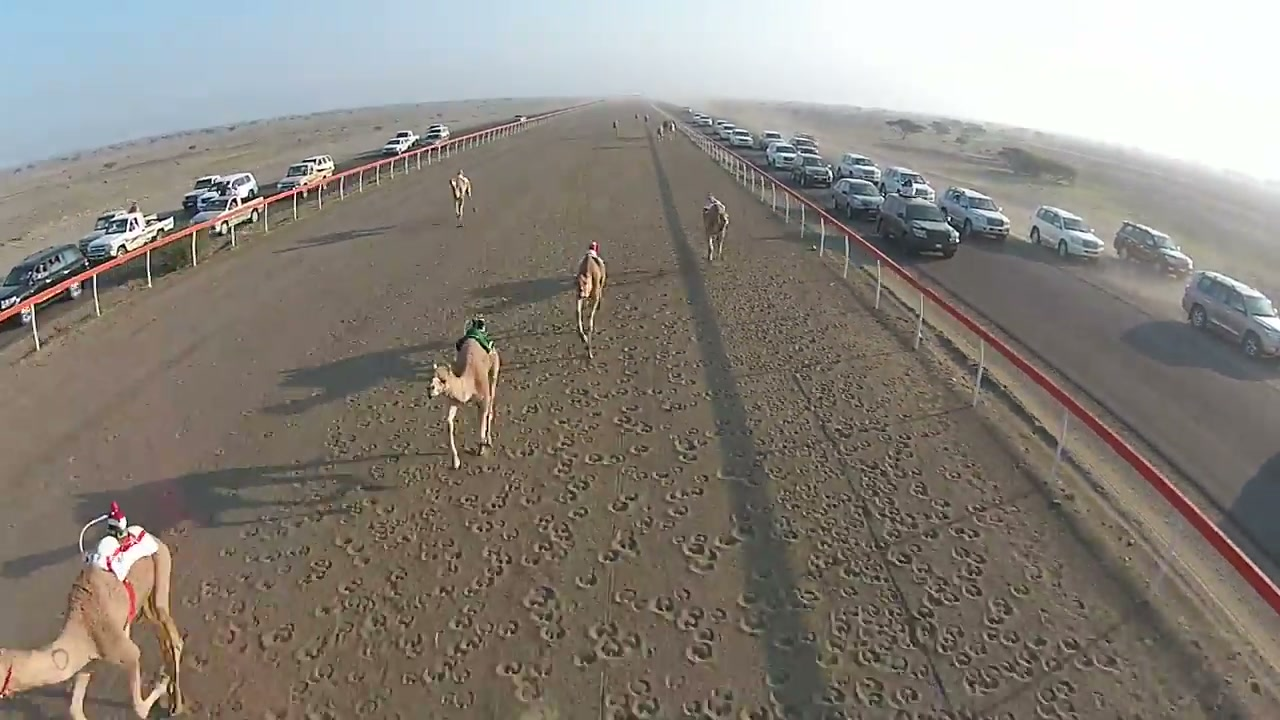animal_foot_print: (175, 152, 1212, 719), (718, 282, 1170, 716), (399, 314, 767, 716), (588, 354, 766, 717), (181, 495, 430, 716), (605, 678, 663, 719), (677, 533, 719, 574), (599, 528, 641, 564), (671, 428, 710, 463), (607, 493, 639, 513)
